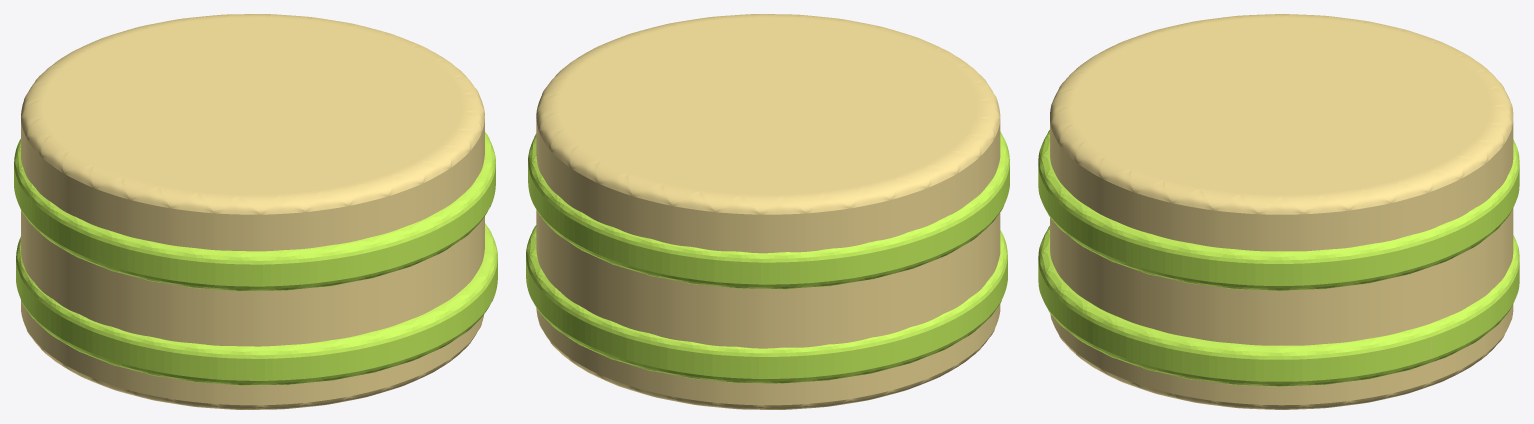
Rendered from bolocilindro limao.glb.
3 renders of one model, left to right at view 1: azimuth 30°, elevation 25°; view 2: azimuth 150°, elevation 25°; view 3: azimuth 270°, elevation 25°, orthographic.
Parts seen in each view (by area): view 1: Cylinder.003, Cylinder.001, Cylinder.000; view 2: Cylinder.003, Cylinder.001, Cylinder.000; view 3: Cylinder.003, Cylinder.000, Cylinder.001.
Boxes of the visible parts, bbox=[...] form: Cylinder.003: bbox=[21, 14, 484, 409]; Cylinder.001: bbox=[14, 132, 495, 291]; Cylinder.000: bbox=[16, 223, 497, 385]; Cylinder.003: bbox=[536, 14, 1000, 409]; Cylinder.001: bbox=[528, 132, 1009, 289]; Cylinder.000: bbox=[526, 225, 1007, 383]; Cylinder.003: bbox=[1050, 14, 1513, 409]; Cylinder.000: bbox=[1038, 226, 1519, 386]; Cylinder.001: bbox=[1038, 130, 1519, 290].
Size of the model in its own units: 2.7 by 1.3 by 2.68.
